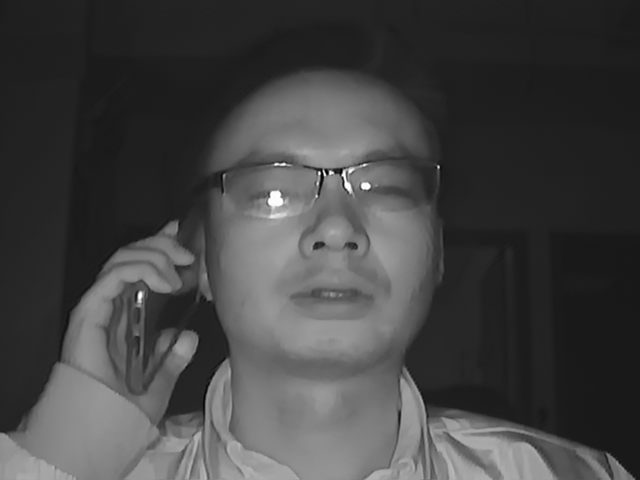hand: (64, 221, 197, 404)
